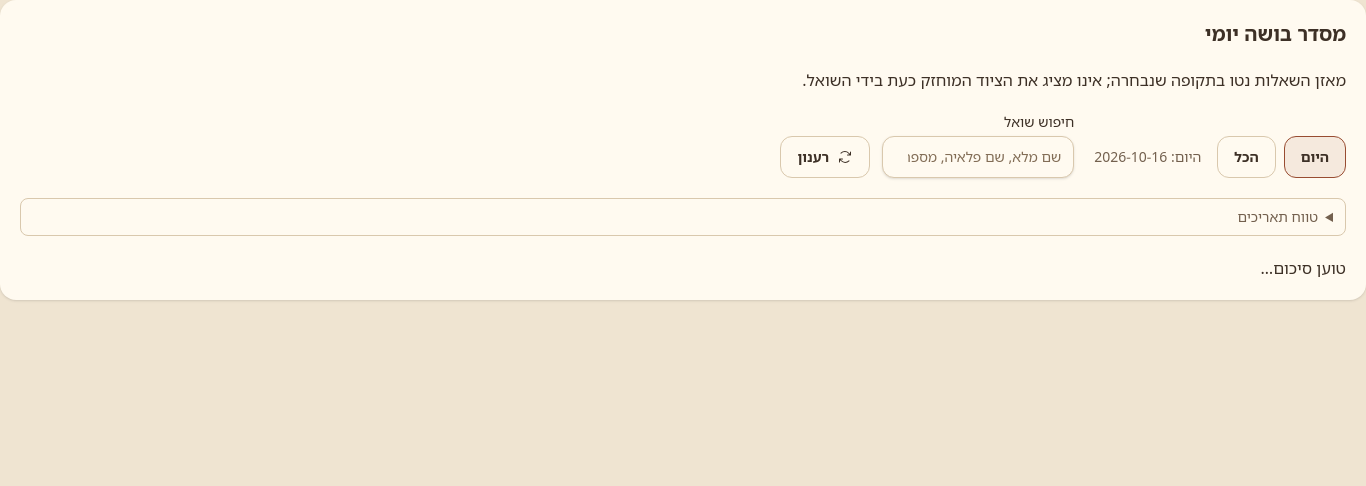
Scenario: period summary view › never displays a stale result after a newer date request
The image size is (1366, 486).
Click the heading "טווח תאריכים" at (1278, 216), box [1238,207,1318,226]
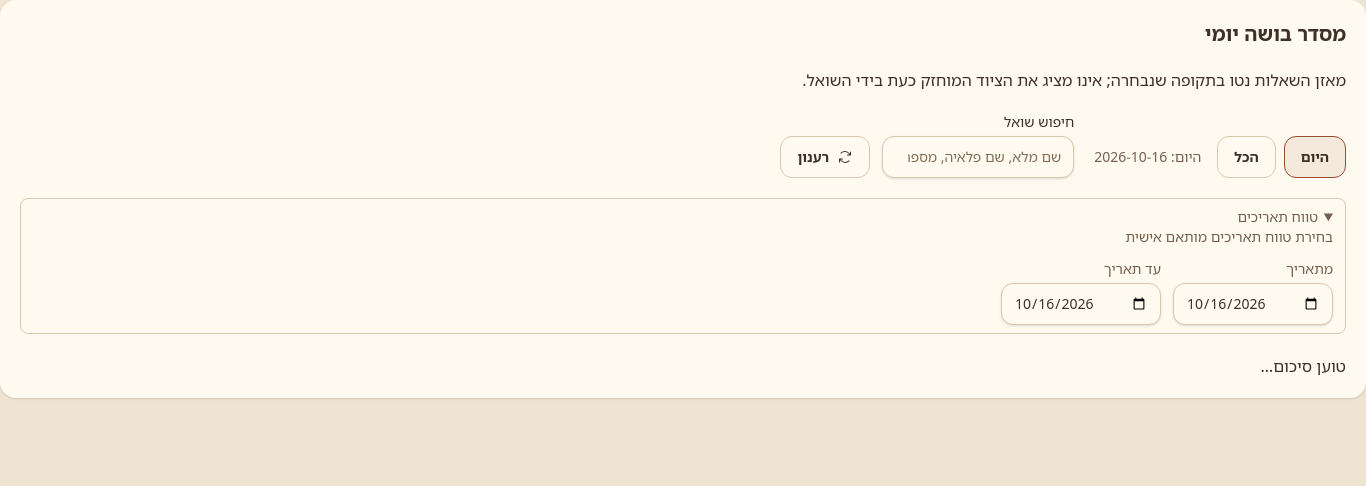
Type "2026-09-21" into the date field labelled "מתאריך" at (1253, 304), box [1173,283,1333,325]
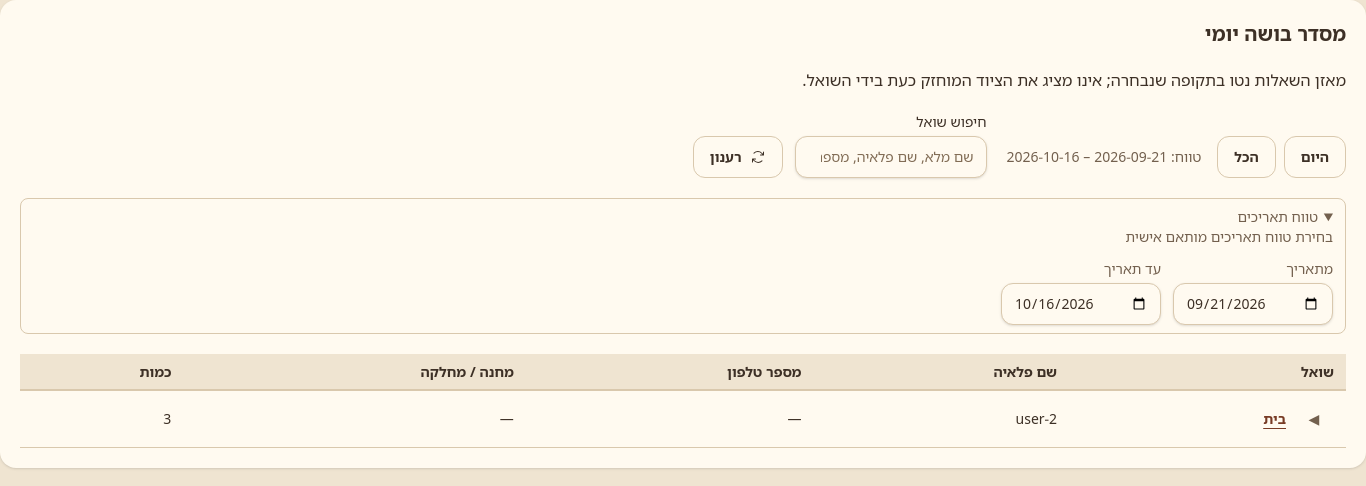
Check: the button "בית" is shown, box [1263,399,1286,439]
